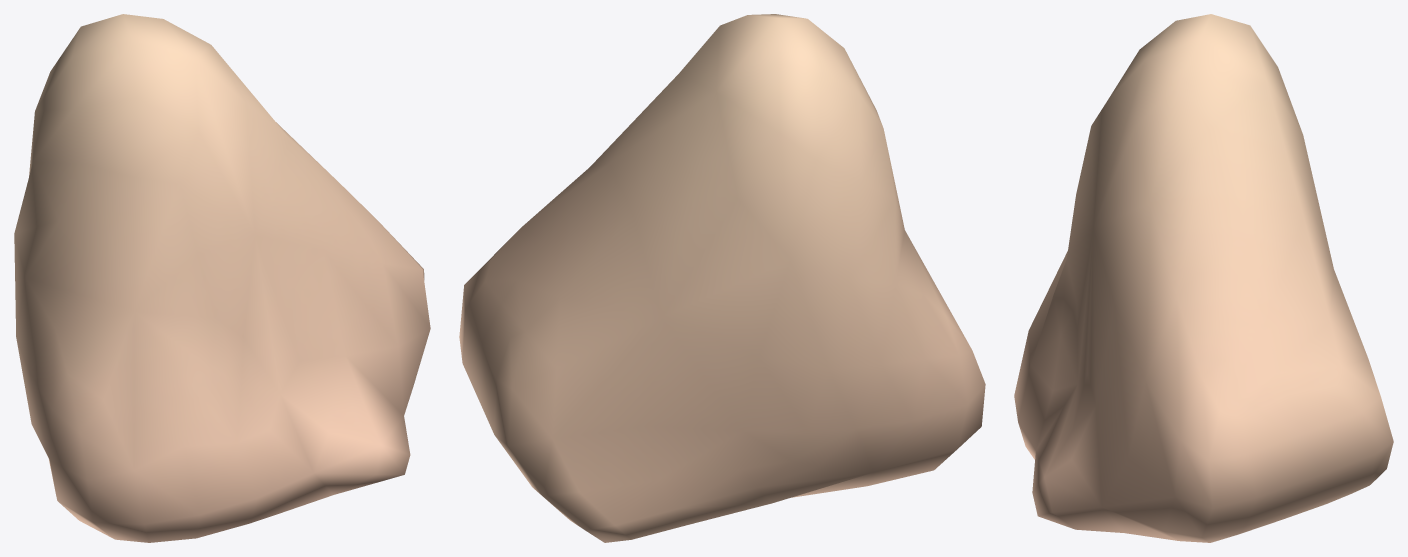
File: stones3.fbx
The picture shows the model from 3 angles, left to right: view 1: azimuth 30°, elevation 25°; view 2: azimuth 150°, elevation 25°; view 3: azimuth 270°, elevation 25°; orthographic projection. The views are drawn at different scales.
Visible parts, largest first — view 1: Stones3; view 2: Stones3; view 3: Stones3.
Boxes of the visible parts, box(x1,y1,x2,y2) form: Stones3: box(14, 14, 430, 542); Stones3: box(459, 14, 985, 542); Stones3: box(1014, 14, 1393, 542).
Bounding box in the file's own units: 0.8622 × 0.8926 × 0.6996.
